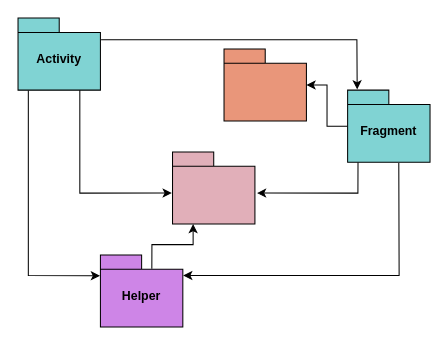
Some shapes in this 448 by 345 pixel diagram are drawn without their labels. The box of each missing label's shape, as (x1, y1, x2, y2) in pixels:
Adapter: (223, 48, 306, 121)
Model: (171, 151, 255, 224)
